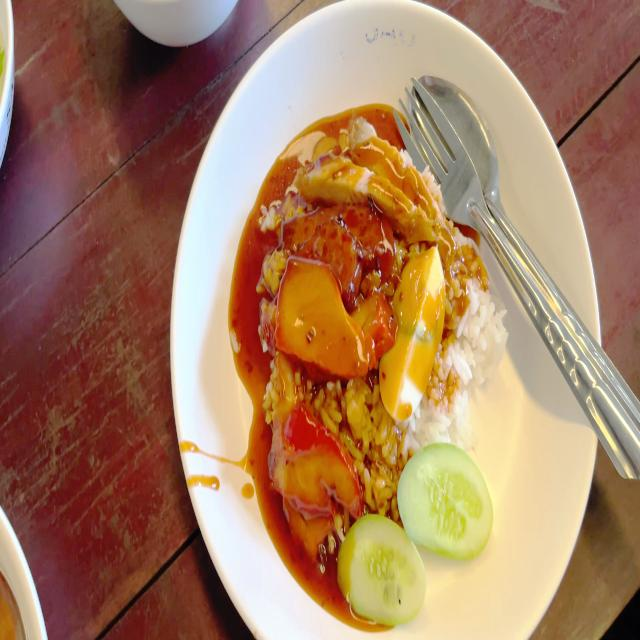boiled_egg: (382, 254, 448, 421)
chainese_sausage: (290, 199, 399, 292)
crispy_pork: (277, 116, 447, 250)
cucumber: (393, 444, 491, 556), (339, 515, 428, 626)
red_pork: (273, 256, 386, 376), (268, 400, 352, 545)
red_pork_and_crispy_pork: (254, 128, 501, 620)
